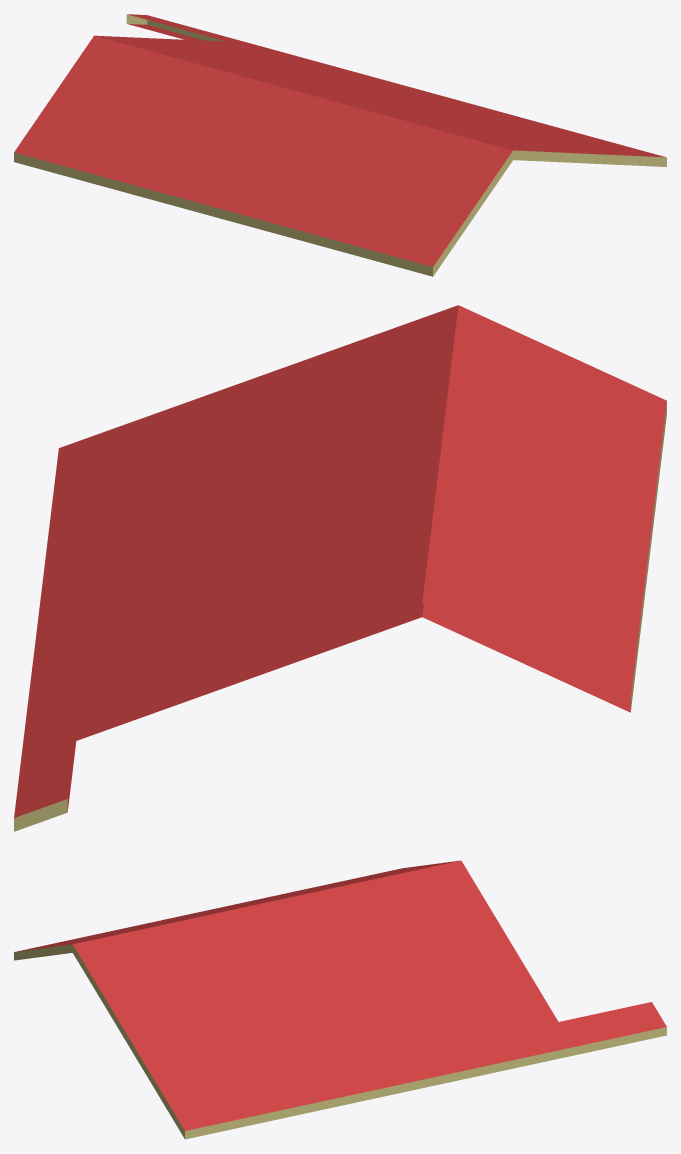
3 renders of one model, top to bottom at view 1: azimuth 30°, elevation 25°; view 2: azimuth 150°, elevation 25°; view 3: azimuth 270°, elevation 25°, orthographic. The views are drawn at different scales.
Size of the model in its own units: 5.7 by 6.98 by 1.21.
